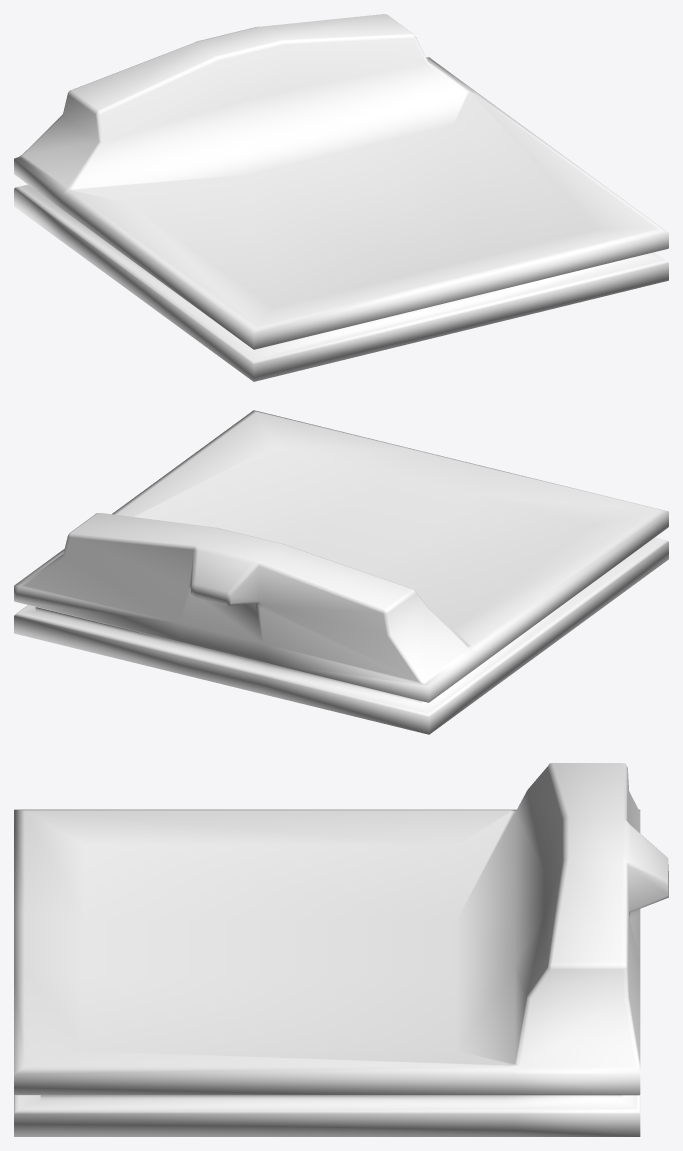
Rendered from Winda.glb.
The picture shows the model from 3 angles, top to bottom: view 1: azimuth 30°, elevation 25°; view 2: azimuth 150°, elevation 25°; view 3: azimuth 270°, elevation 25°; orthographic projection. The views are drawn at different scales.
Visible parts, largest first — view 1: Cube.001; view 2: Cube.001; view 3: Cube.001.
Boxes of the visible parts, x1,y1,x2,y2 form: Cube.001: (14, 14, 668, 381); Cube.001: (14, 410, 668, 734); Cube.001: (14, 763, 668, 1136).
Size of the model in its own units: 3 by 0.8842 by 3.14.
1 material, 1 textured.
